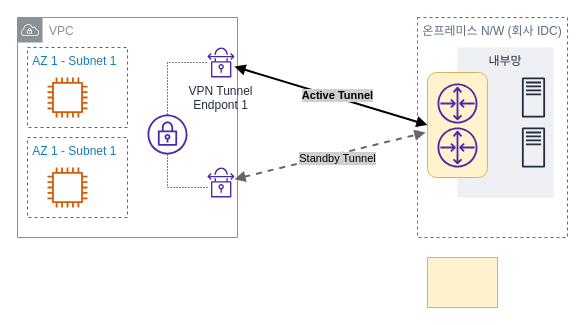
The diagram is 585 pixels wide and 325 high, and some of its shapes have lost their labels. The centre of each missing label's shape, as x and y in pixels:
CGW Device Clustering: the point at 462,282
VGW: the point at 167,134
VPN Tunnel Endpont 2: the point at 220,182
